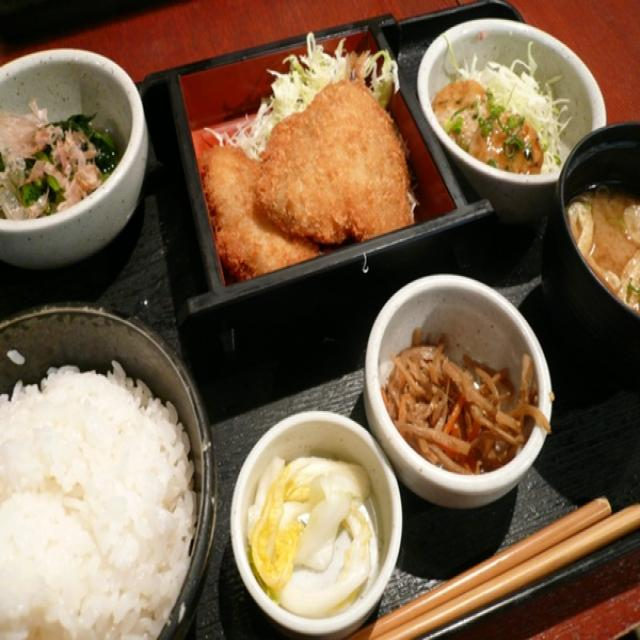炸货点心: (216, 68, 390, 304)
熟制海鲜: (216, 68, 390, 304)
